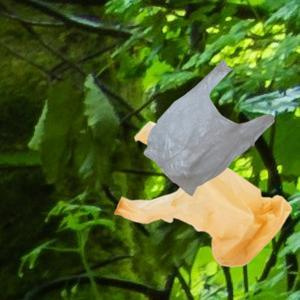plastic_bag: (111, 117, 294, 269), (142, 58, 278, 199)
